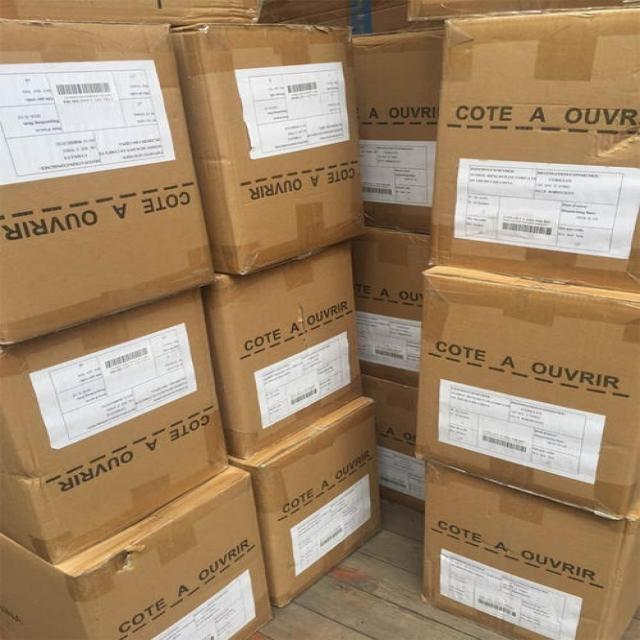box: (0, 16, 216, 344), (0, 284, 227, 562), (430, 10, 639, 294), (413, 263, 639, 520), (0, 460, 271, 639), (177, 23, 365, 276), (423, 460, 638, 639), (224, 392, 386, 605), (202, 240, 361, 455), (349, 26, 446, 236), (344, 224, 429, 389), (254, 0, 639, 28), (357, 362, 425, 513), (0, 0, 263, 27)
